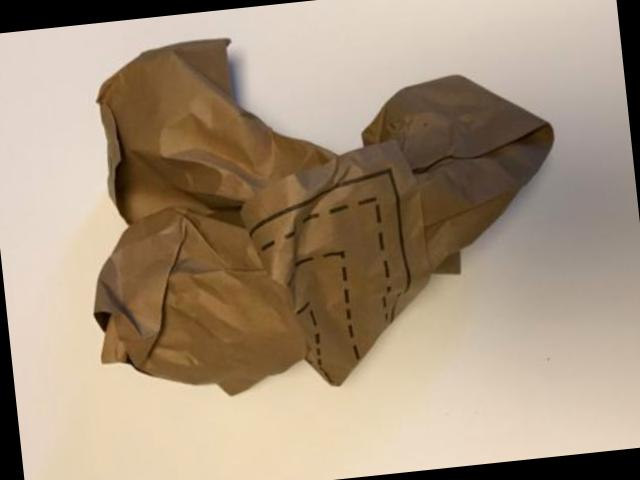cardboard paper: (92, 41, 550, 396)
